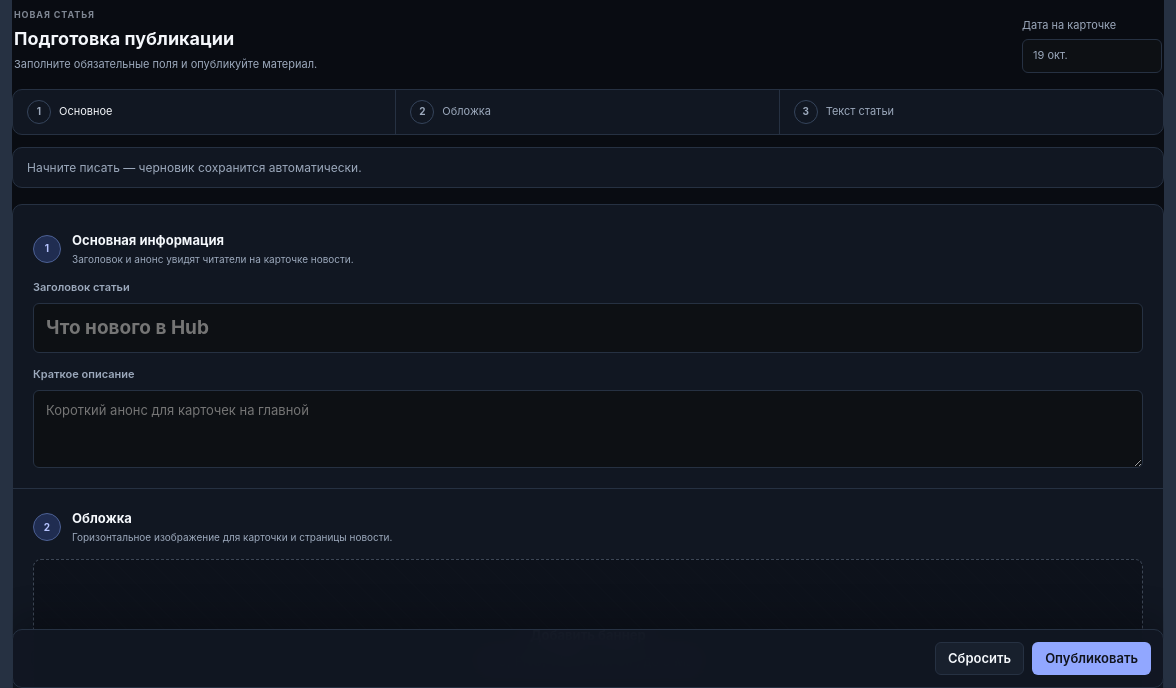
Test: site news publishing and deletion › publishes the draft and keeps the returned article selected without a second list request
(page scrolled)
Step 1. Type "Новая статья" into the field labelled "Заголовок статьи" → (588, 328), box [33,303,1143,353]
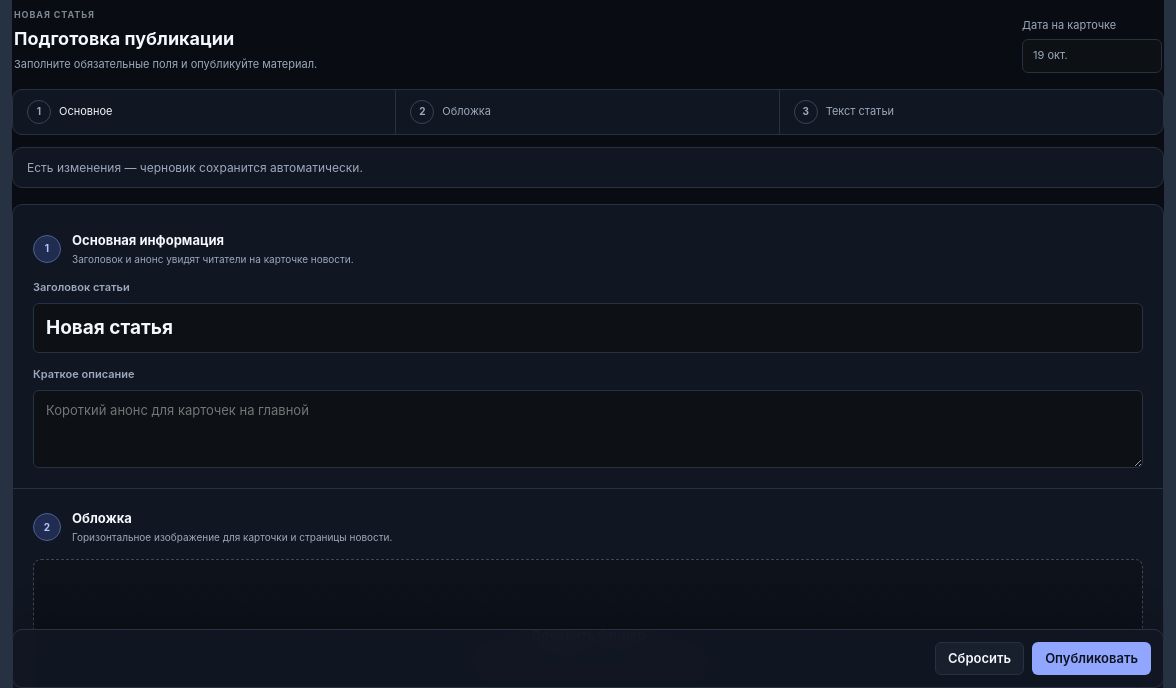
Step 2. Type "Описание" into the text box labelled "Краткое описание" → (588, 429), box [33,390,1143,468]
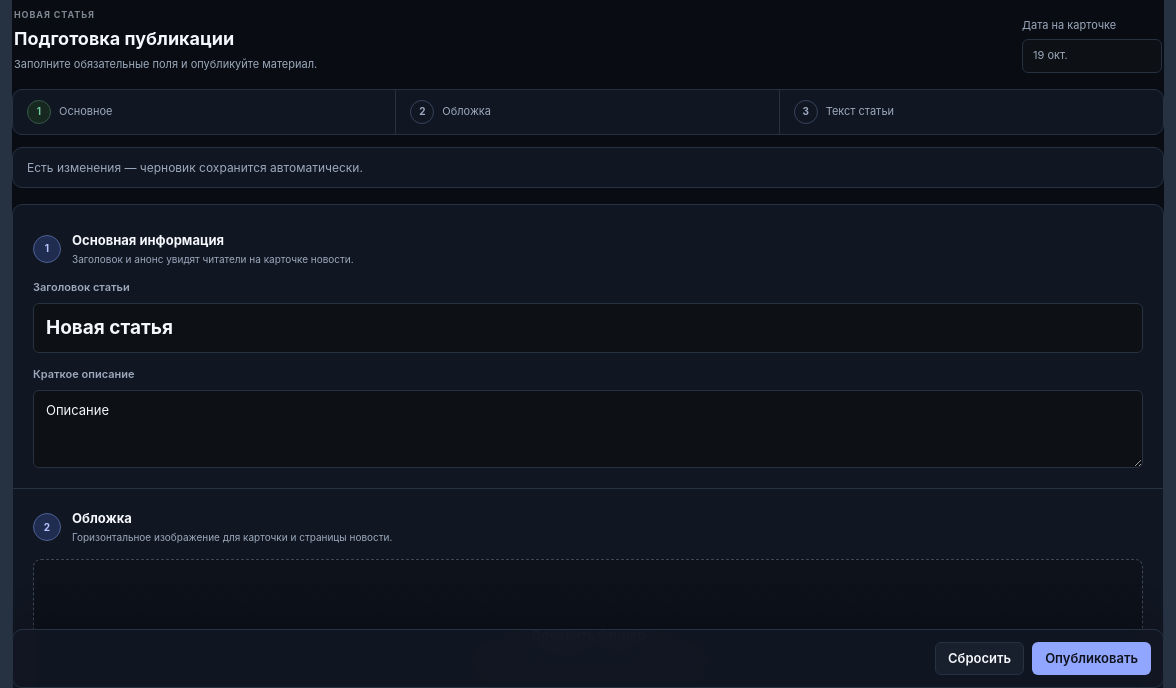
Step 3. Click the button "Опубликовать" → (1092, 659), box [1032,642,1151,675]
(page scrolled)
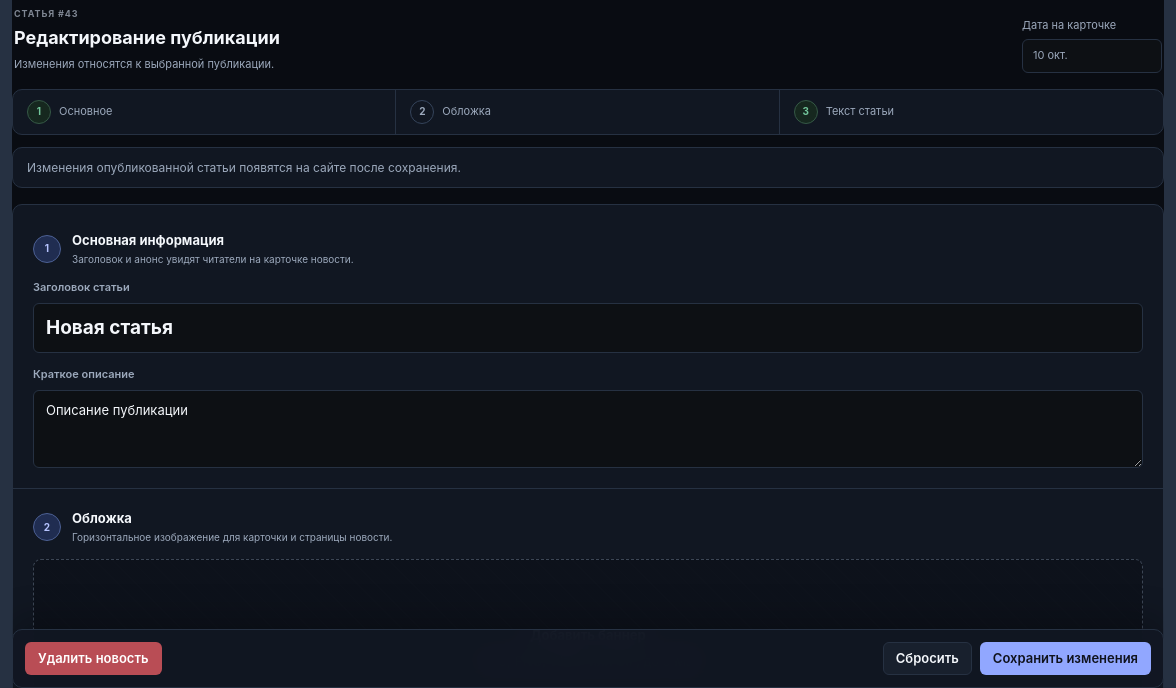
Now the text "Статья #43" is shown, box [14,8,78,19]
Step 4. Click the button "Сохранить изменения" → (1065, 659), box [980,642,1151,675]
(page scrolled)
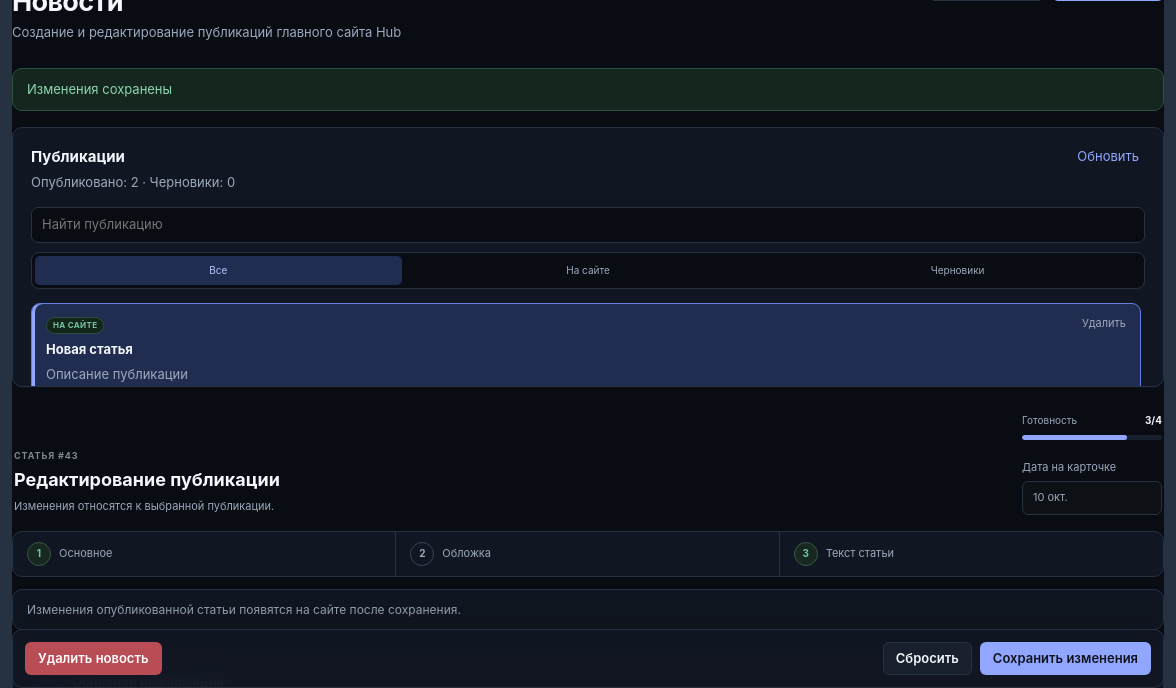
Now the text "Изменения сохранены" is shown, box [12,68,1164,111]
